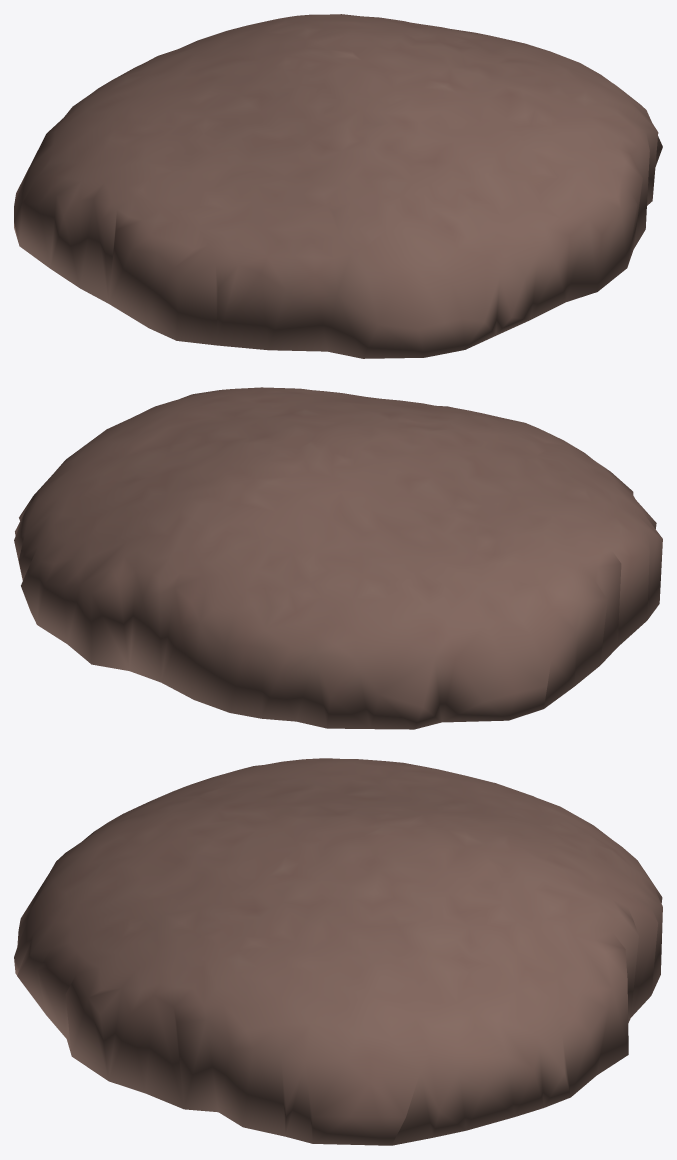
Rendered from devonian-tabulate.glb.
3 views of the same model, one above another, from view 1: azimuth 30°, elevation 25°; view 2: azimuth 150°, elevation 25°; view 3: azimuth 270°, elevation 25° (orthographic). The views are drawn at different scales.
Parts seen in each view (by area): view 1: devonian-tabulate; view 2: devonian-tabulate; view 3: devonian-tabulate.
Boxes of the visible parts, <box> form: devonian-tabulate: <box>14,14,662,358</box>; devonian-tabulate: <box>14,387,662,729</box>; devonian-tabulate: <box>14,758,662,1145</box>.
Bounding box in the file's own units: 1.12 × 0.3 × 1.03.
